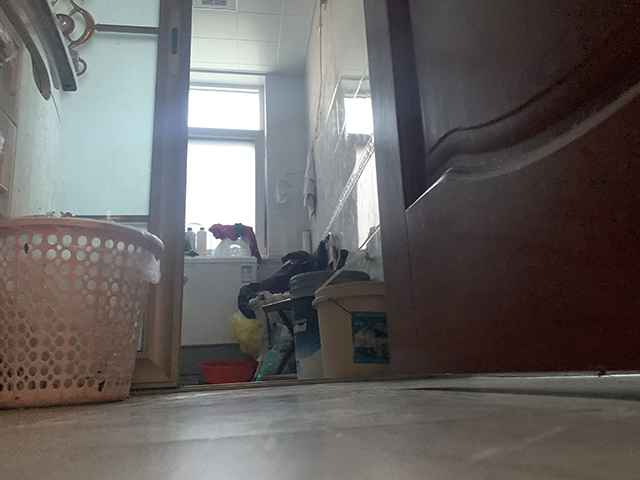trashcan: (1, 216, 166, 410)
